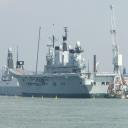Portanaves: (8, 22, 117, 101)
